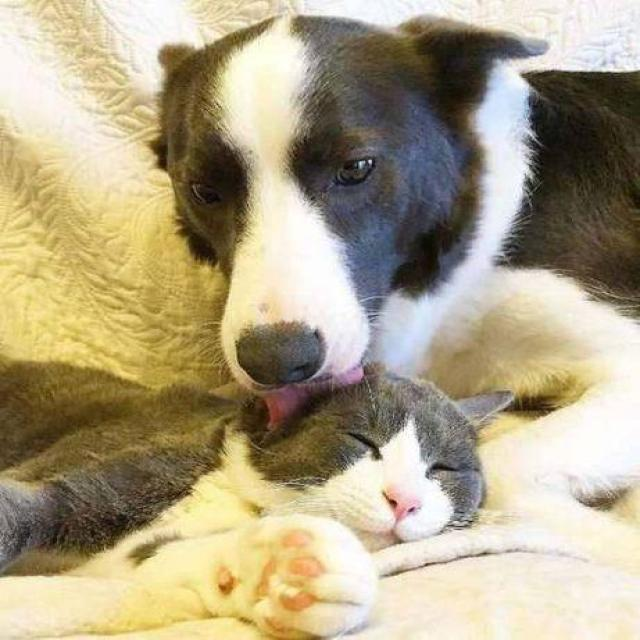cat: (12, 368, 514, 640)
dog: (111, 3, 640, 392)
